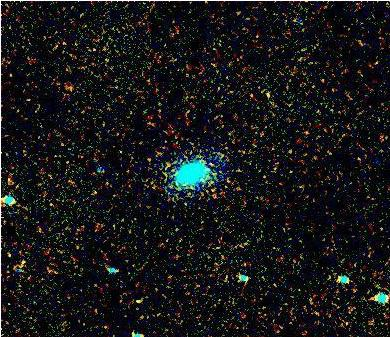star: (193, 143, 223, 173)
